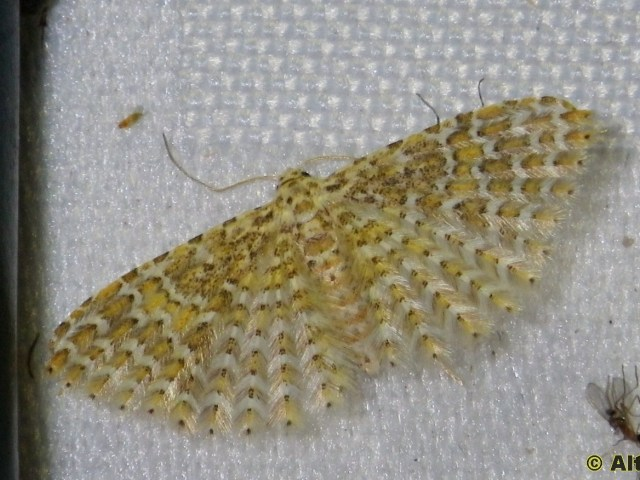Alucitidae: (46, 80, 613, 451)
moth: (44, 78, 611, 449)
